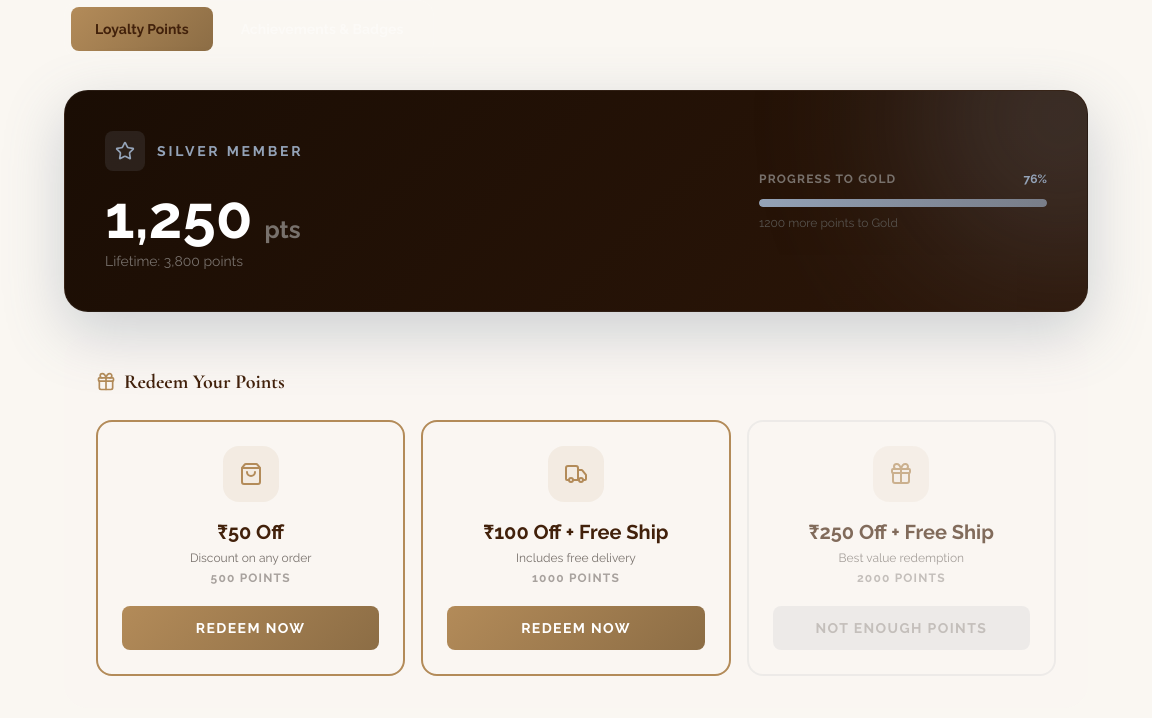
Test: LoyaltyPointsTracker › allows redeeming points if balance is sufficient
Click the button "Redeem Now" below "500": x=251, y=628 [122, 606, 379, 650]
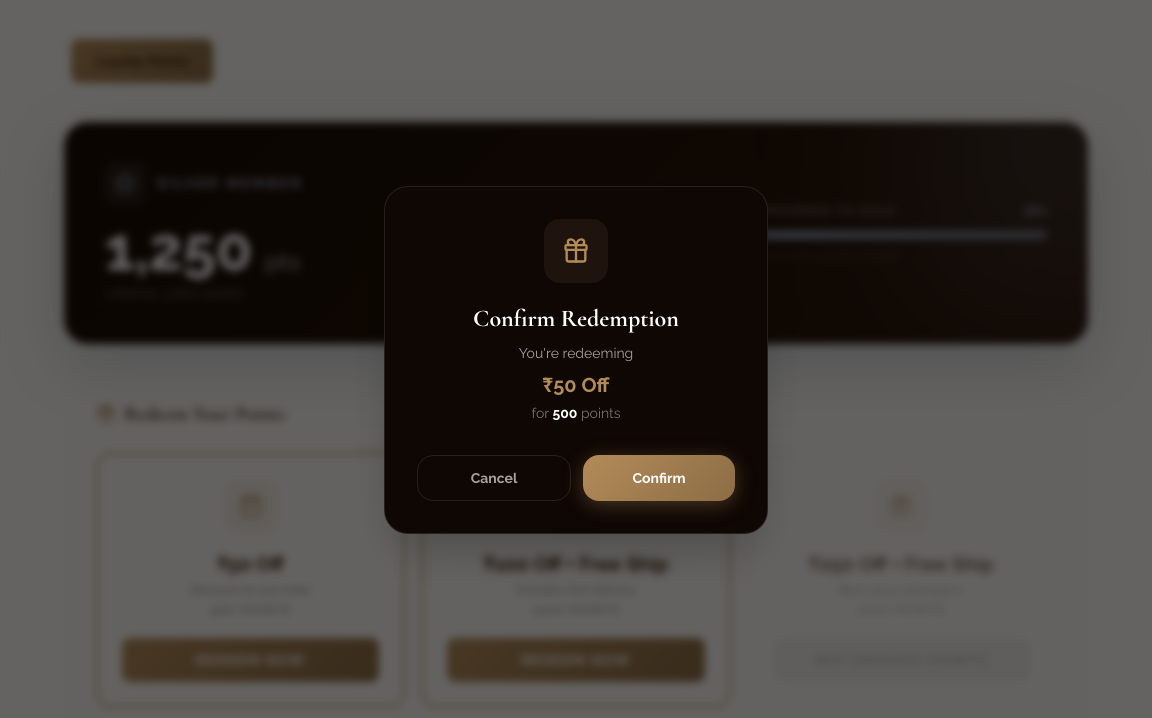
Click the button "Confirm": x=659, y=478 [583, 455, 735, 501]
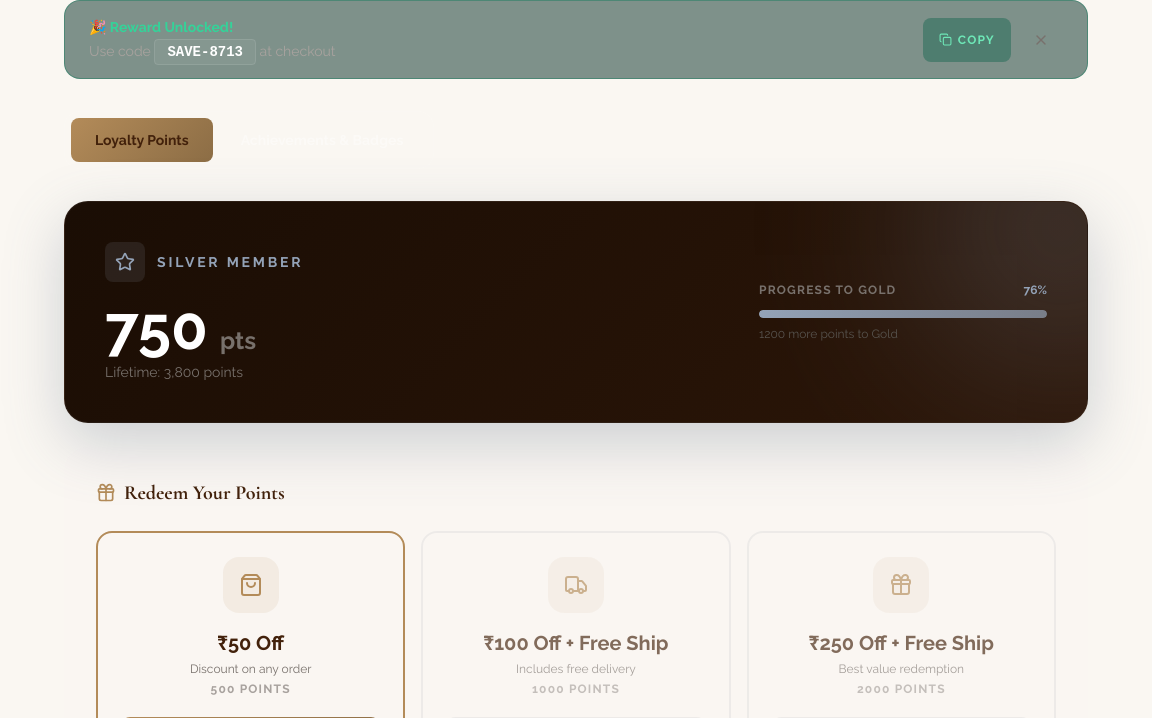
expect the text "750" is shown: met, box [105, 293, 208, 363]
